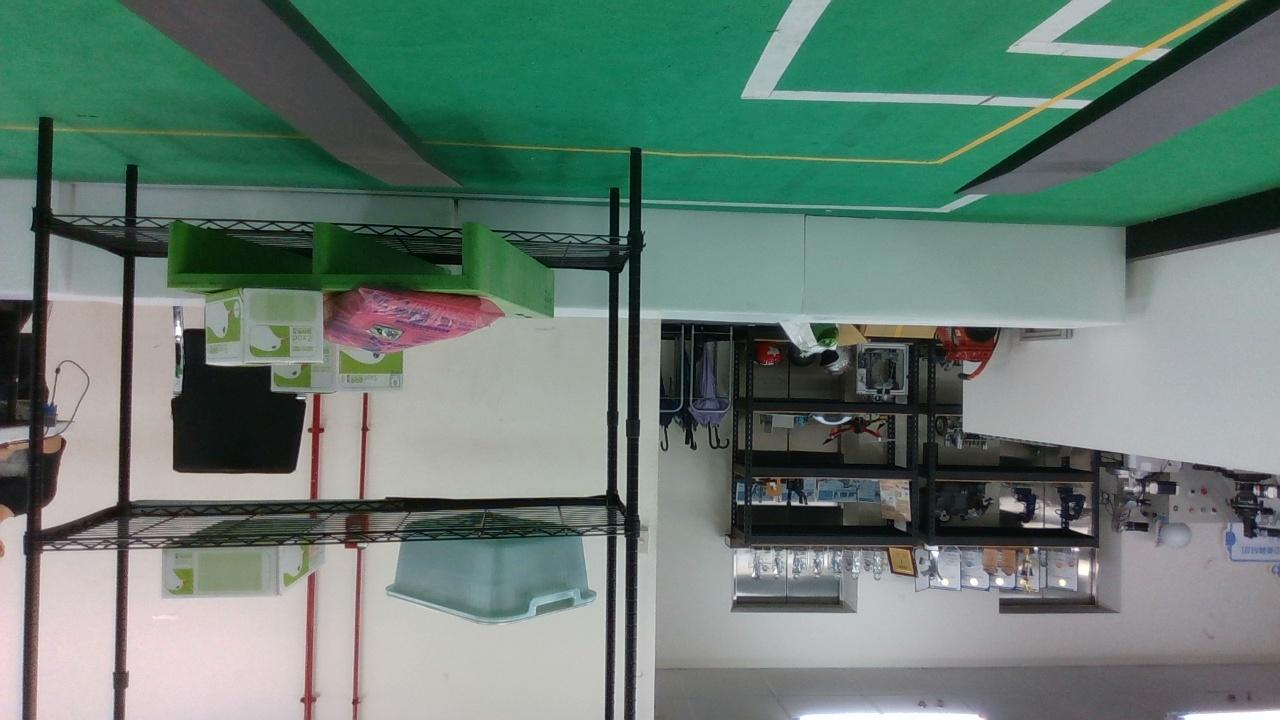Pallet: (170, 220, 480, 289)
